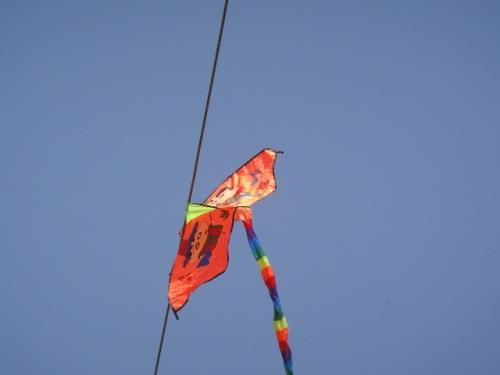kite: (168, 147, 331, 375)
